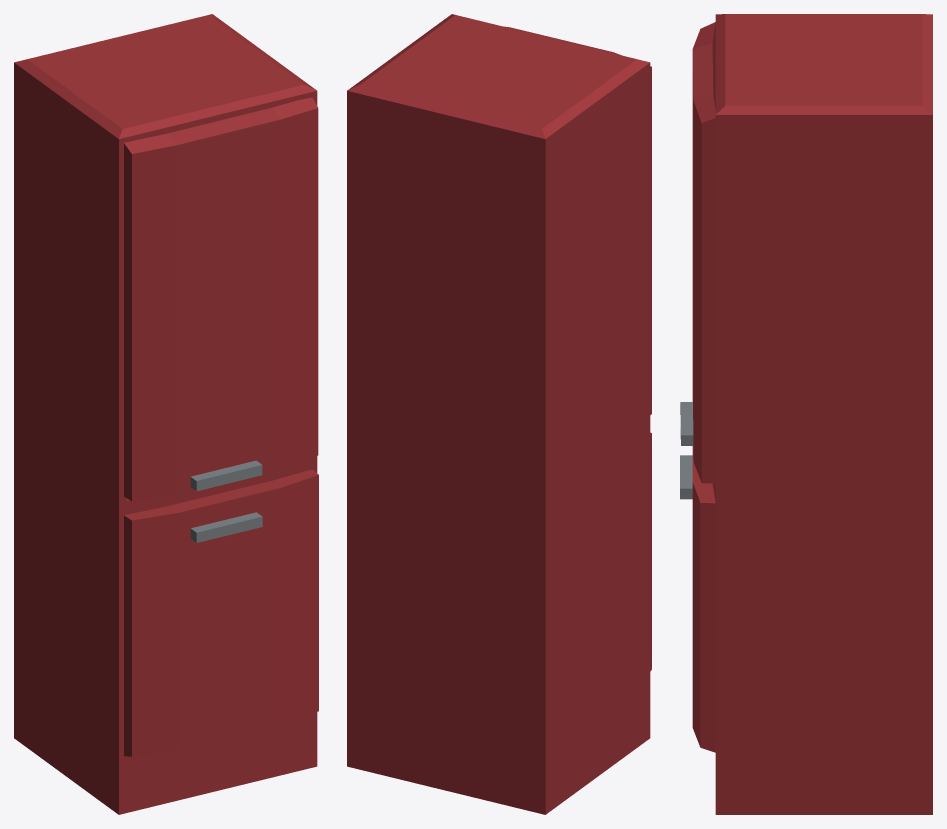
Rendered from Fridge.fbx.
3 renders of one model, left to right at view 1: azimuth 30°, elevation 25°; view 2: azimuth 150°, elevation 25°; view 3: azimuth 270°, elevation 25°, orthographic. The views are drawn at different scales.
Visible parts, largest first — view 1: Fridge, Fridge_Door; view 2: Fridge, Fridge_Door; view 3: Fridge, Fridge_Door.
Boxes of the visible parts, x1=… form: Fridge: x1=14, y1=14, x2=318, y2=814; Fridge_Door: x1=124, y1=97, x2=318, y2=501; Fridge: x1=347, y1=14, x2=651, y2=814; Fridge_Door: x1=504, y1=26, x2=651, y2=414; Fridge: x1=680, y1=14, x2=932, y2=814; Fridge_Door: x1=680, y1=22, x2=715, y2=483.
Bounding box in the file's own units: 60.14 × 197 × 64.02.
